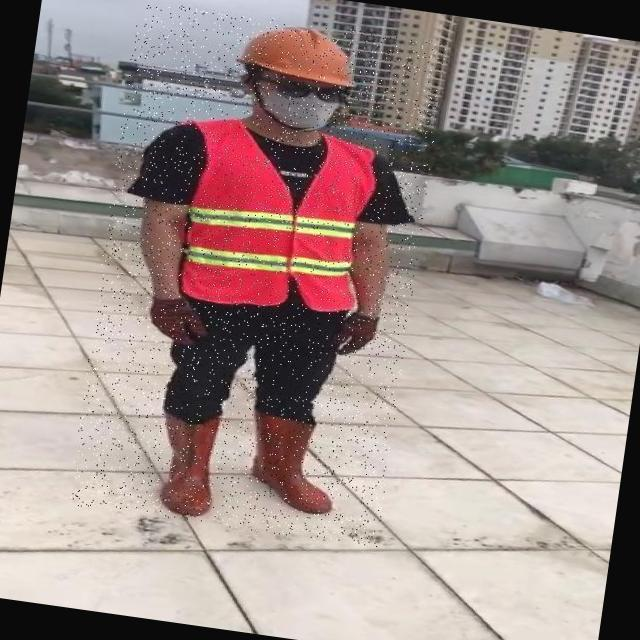boots: (247, 413, 341, 518), (152, 411, 223, 518)
gloves: (101, 242, 222, 362), (302, 269, 400, 364)
helmet: (231, 18, 369, 89)
vest: (176, 118, 379, 320)
